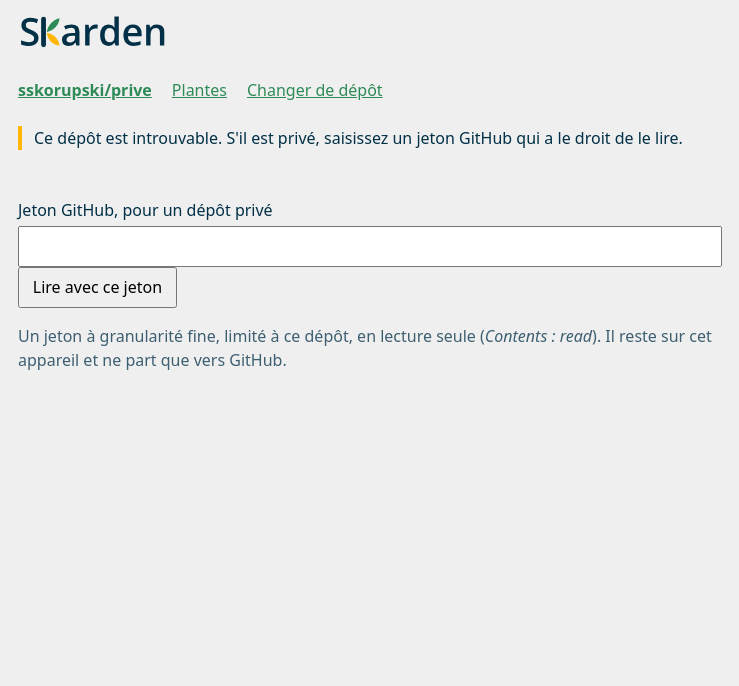
it: le jeton › saisi, est mémorisé sur l'appareil et sert à relire le dépôt
Step 1. Type "ghp_secret" into the password field named "jeton" → x=370, y=246, box x1=18 y1=226 x2=722 y2=267
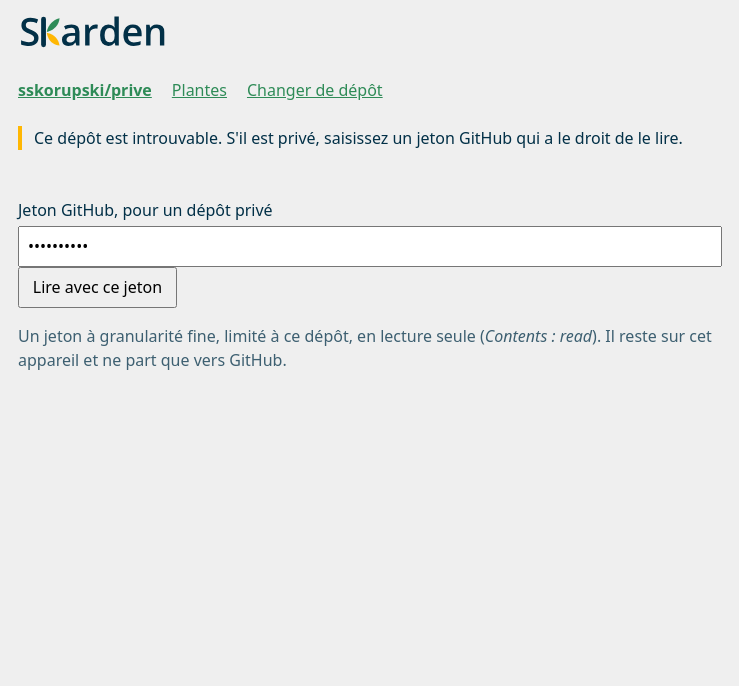
Step 2. Submit the form with test id "jeton" that starts with "Jeton GitHub, pour un dépôt privé", box x1=18 y1=198 x2=722 y2=372
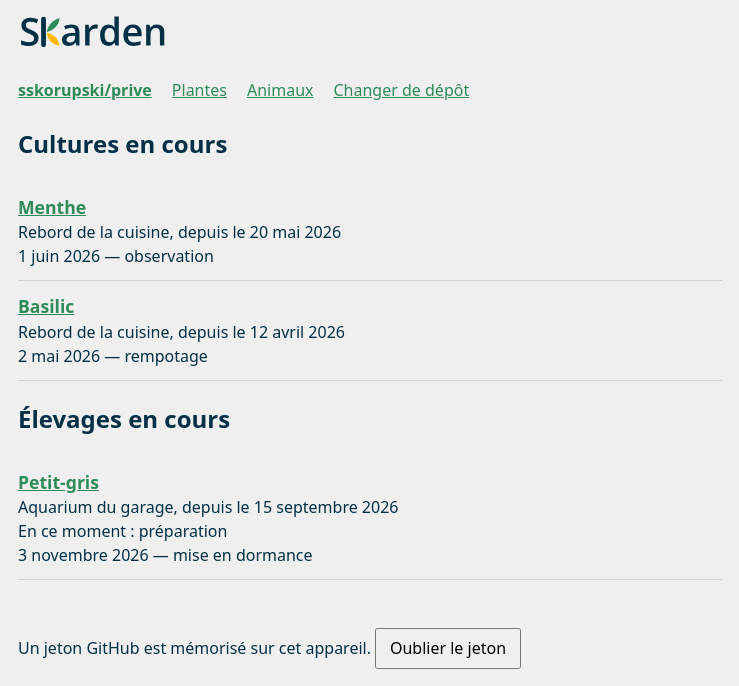
Result: the text "Cultures en cours" is shown at x1=18 y1=127 x2=227 y2=160
